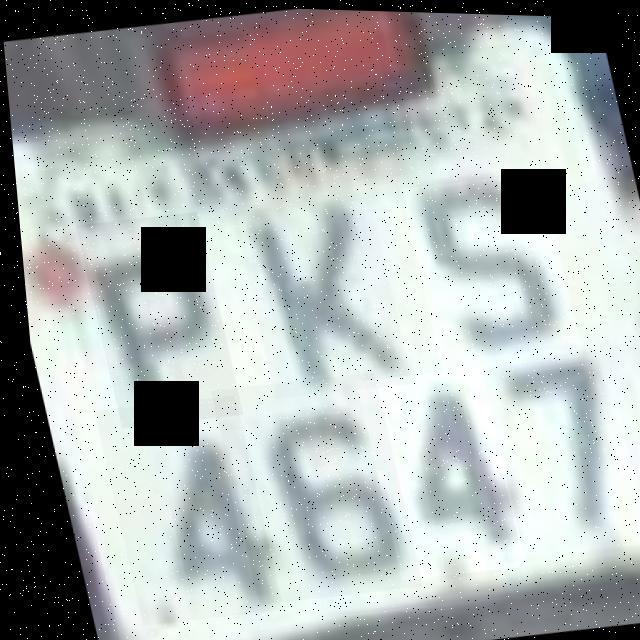4: (85, 391, 274, 629), (348, 362, 517, 582)
6: (202, 367, 414, 607)
7: (457, 346, 640, 561)
K: (229, 191, 408, 401)
P: (70, 208, 237, 430)
S: (396, 166, 578, 372)
